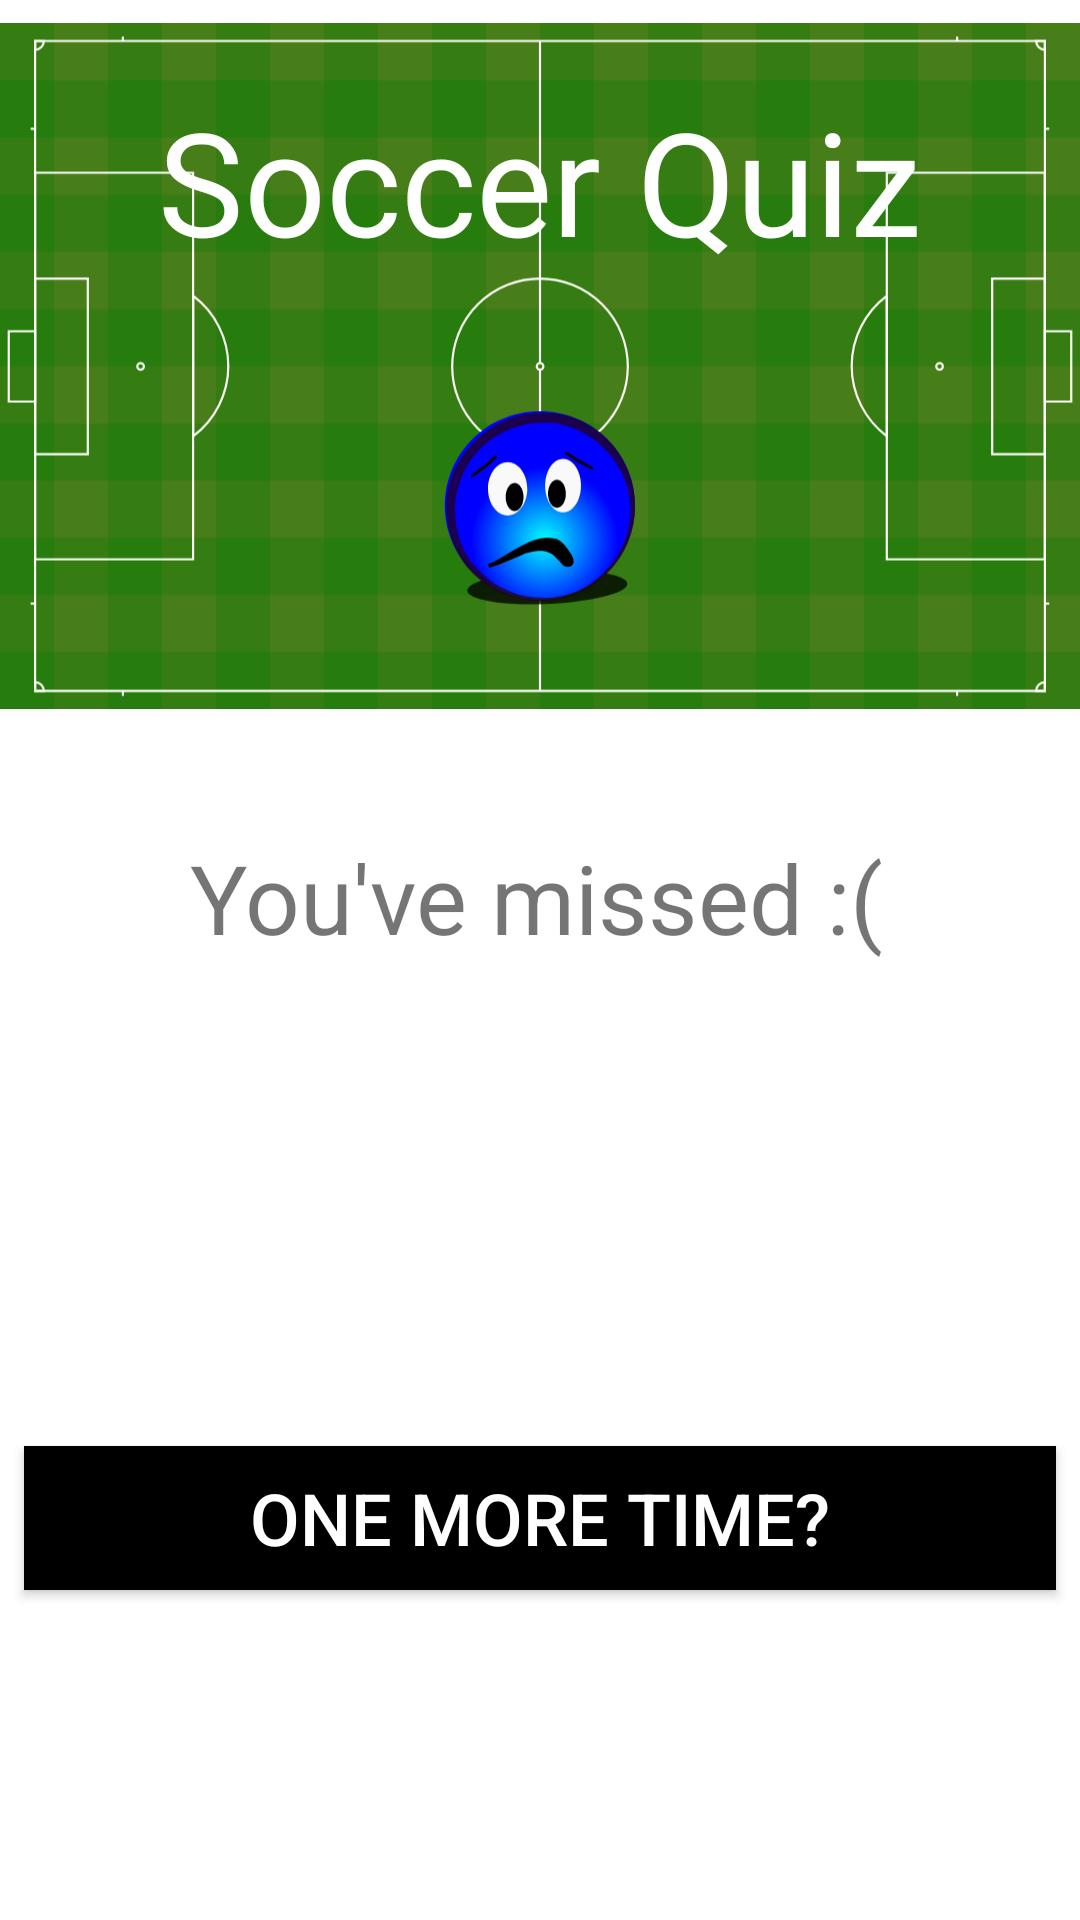

Where to tap for icons on this 1080 x 1920 app screen, as [x,y]:
smiley: [539,509]
